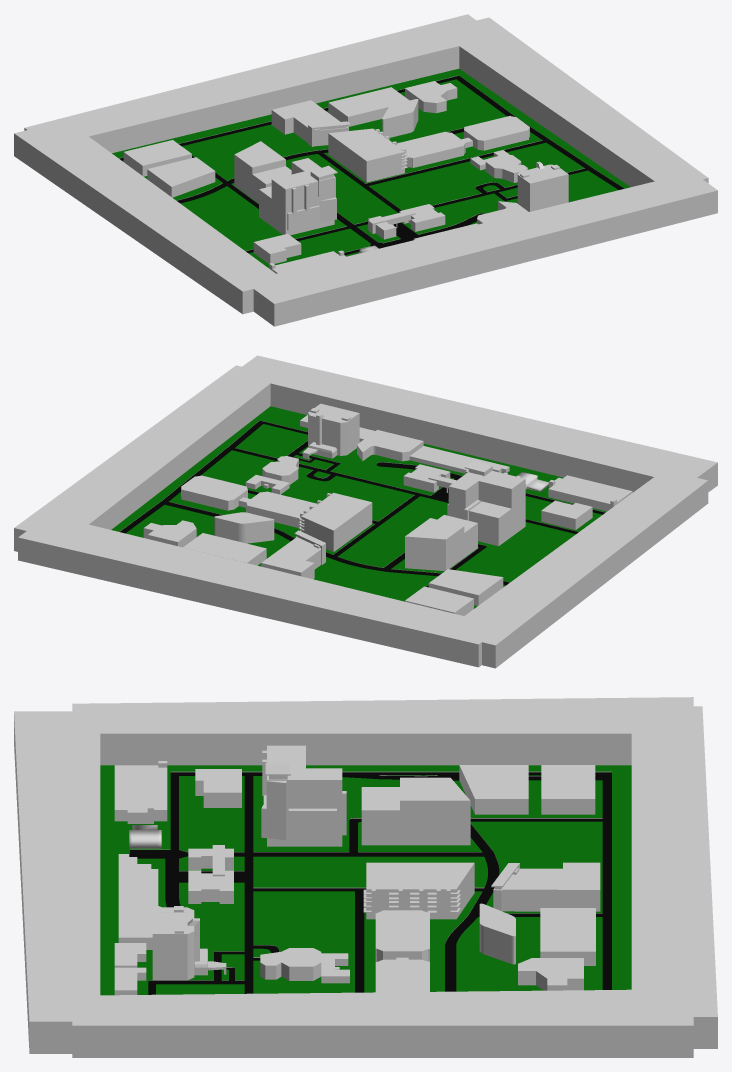
The model's file is map.fbx.
The picture shows the model from 3 angles, top to bottom: view 1: azimuth 30°, elevation 25°; view 2: azimuth 150°, elevation 25°; view 3: azimuth 270°, elevation 25°; orthographic projection. The views are drawn at different scales.
Visible parts, largest first — view 1: Plane.001, Cube.021, Cube.020, Cube.019, Cube.018, Cube.008, Cube.010, Cube.017, Cube.009, Cube.016, Cube.007, Cube.001 (+8 smaller); view 2: Plane.001, Cube.020, Cube.021, Cube.019, Cube.018, Cube.008, Cube.010, Cube.007, Cube.009, Cube.017, Cube, Cube.001 (+8 smaller); view 3: Plane.001, Cube.018, Cube.019, Cube.021, Cube.020, Cube.008, Cube.007, Cube.017, Cube.009, Cube.016, Cube.010, Cube.001 (+10 smaller).
Part boxes in pixels (x1,y1,x2,y2): Plane.001: (112, 68, 630, 267); Cube.021: (253, 172, 717, 326); Cube.020: (24, 14, 496, 153); Cube.019: (14, 130, 285, 314); Cube.018: (437, 17, 708, 186); Cube.008: (259, 158, 337, 235); Cube.010: (397, 115, 529, 167); Cube.017: (123, 140, 215, 197); Cube.009: (328, 128, 407, 182); Cube.016: (271, 100, 351, 146); Cube.007: (234, 141, 291, 203); Cube.001: (517, 161, 568, 211); Plane.001: (111, 406, 606, 608); Cube.020: (18, 524, 503, 667); Cube.021: (232, 355, 717, 492); Cube.019: (464, 470, 708, 668); Cube.018: (14, 365, 279, 551); Cube.008: (447, 460, 525, 546); Cube.010: (181, 475, 316, 527); Cube.007: (405, 515, 477, 571); Cube.009: (298, 492, 372, 552); Cube.017: (405, 569, 503, 615); Cube: (357, 430, 509, 473); Cube.001: (302, 403, 359, 459); Plane.001: (100, 765, 631, 995); Cube.018: (72, 989, 693, 1057); Cube.019: (72, 697, 693, 765); Cube.021: (14, 711, 100, 1053); Cube.020: (631, 706, 717, 1048); Cube.008: (261, 745, 346, 846); Cube.007: (361, 777, 470, 845); Cube.017: (459, 765, 595, 814); Cube.009: (363, 862, 474, 919); Cube.016: (491, 862, 600, 911); Cube.010: (375, 910, 429, 992); Cube.001: (152, 906, 226, 980).
Size of the model in its own units: 27705 by 2950 by 25093.
